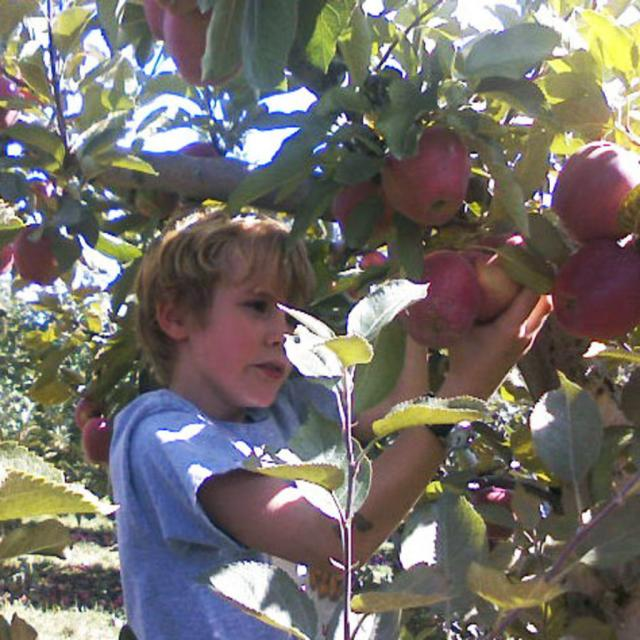Healty Apple: (374, 121, 481, 222), (550, 142, 638, 246), (552, 242, 639, 344), (394, 253, 482, 353), (164, 3, 242, 90), (464, 232, 534, 323), (333, 185, 397, 247), (12, 227, 65, 286), (469, 482, 517, 540), (182, 137, 225, 199), (78, 418, 115, 464), (132, 0, 172, 40), (135, 190, 181, 219), (18, 71, 52, 109), (0, 73, 22, 130), (26, 177, 51, 214), (74, 398, 100, 433), (357, 247, 388, 270), (0, 233, 12, 277)
